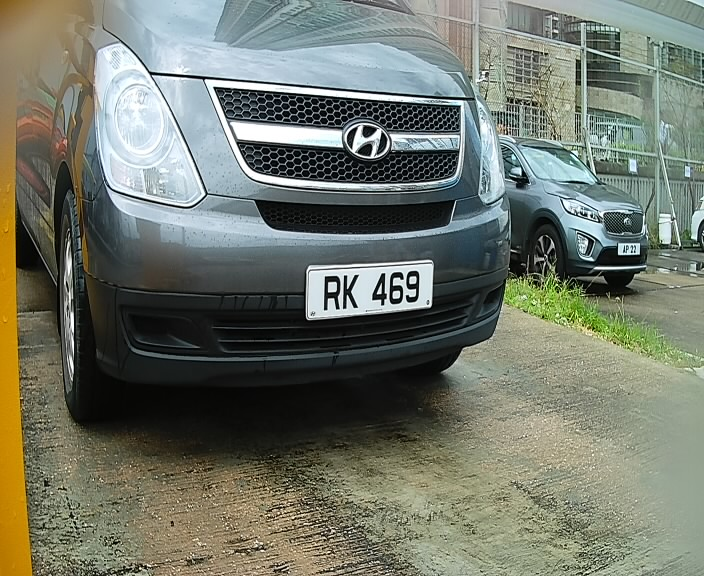License Plate: (293, 256, 447, 328)
